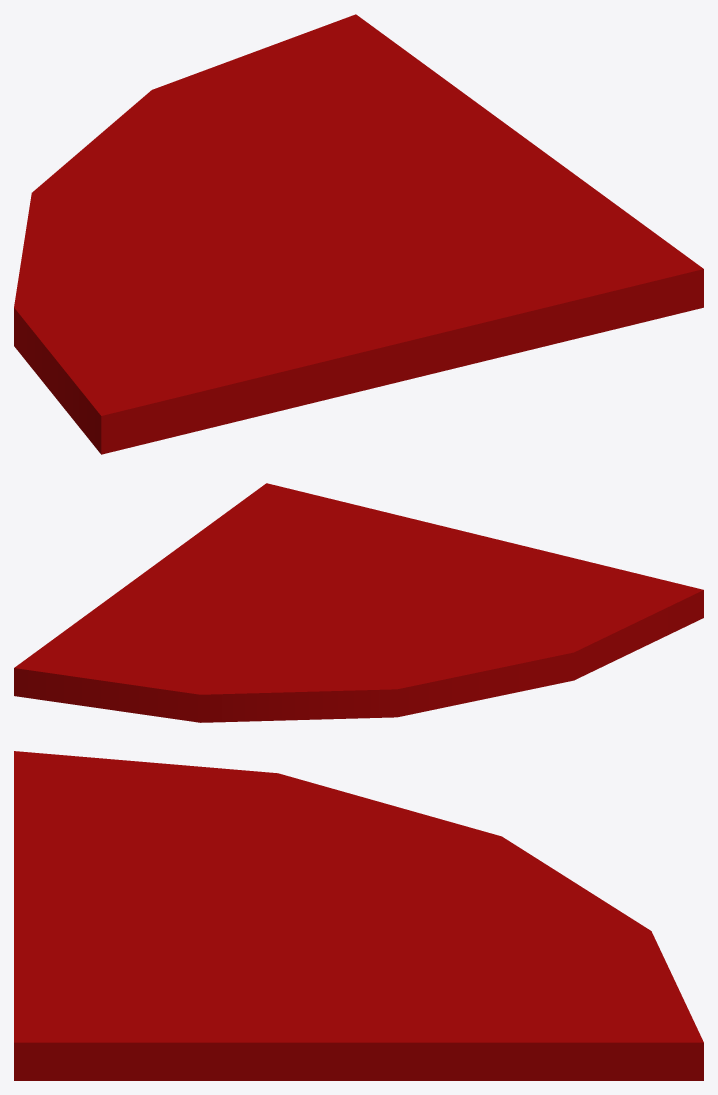
Rendered from SideWalkCorner.fbx.
3 views of the same model, one above another, from view 1: azimuth 30°, elevation 25°; view 2: azimuth 150°, elevation 25°; view 3: azimuth 270°, elevation 25° (orthographic). The views are drawn at different scales.
Parts seen in each view (by area): view 1: pCylinder1; view 2: pCylinder1; view 3: pCylinder1.
Boxes of the visible parts, left/top/right/bottom form: pCylinder1: left=14, top=14, right=703, bottom=454; pCylinder1: left=14, top=483, right=703, bottom=722; pCylinder1: left=14, top=751, right=703, bottom=1080.
Size of the model in its own units: 1 by 0.0613 by 1.
